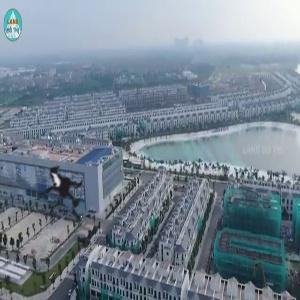drone: (16, 134, 121, 239)
